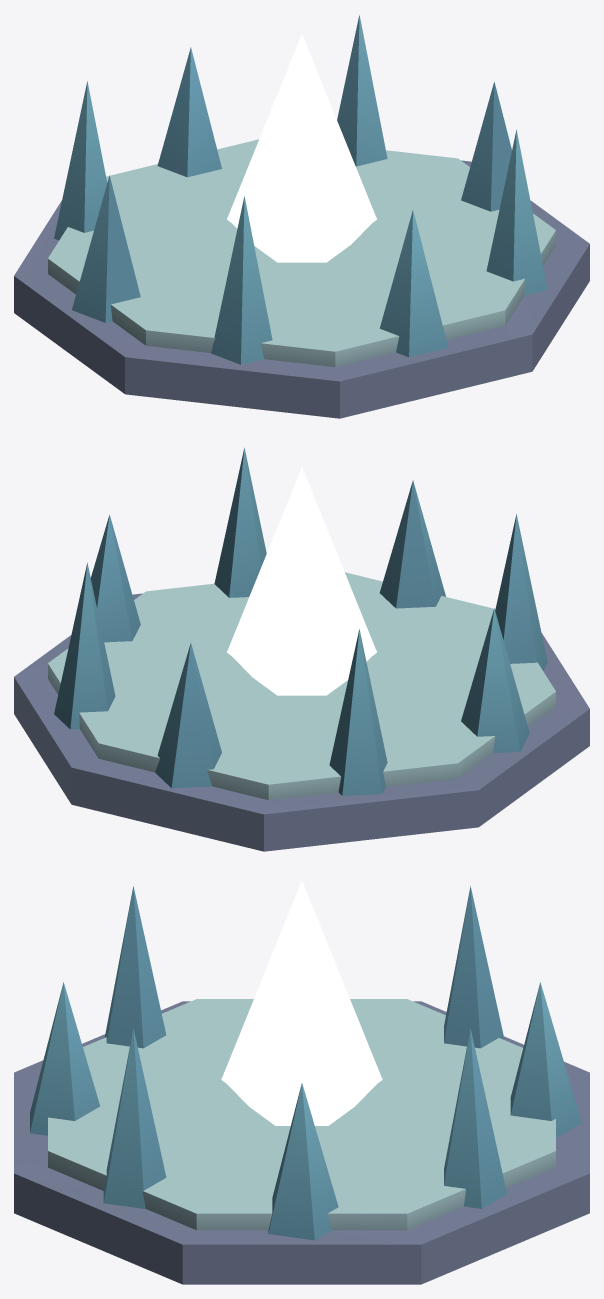
File: b_eisfalle.glb
3 views of the same model, one above another, from view 1: azimuth 30°, elevation 25°; view 2: azimuth 150°, elevation 25°; view 3: azimuth 270°, elevation 25° (orthographic). The views are drawn at different scales.
Visible parts, largest first — view 1: body, pulse_core_glow; view 2: body, pulse_core_glow; view 3: body, pulse_core_glow.
Part boxes in pixels (box(x1,y1,x2,y2)): body: box(14, 14, 589, 418); pulse_core_glow: box(227, 34, 376, 262); body: box(14, 447, 589, 851); pulse_core_glow: box(227, 467, 376, 695); body: box(14, 886, 589, 1284); pulse_core_glow: box(221, 881, 382, 1125).
Bounding box in the file's own units: 1.57 × 0.85 × 1.57.
